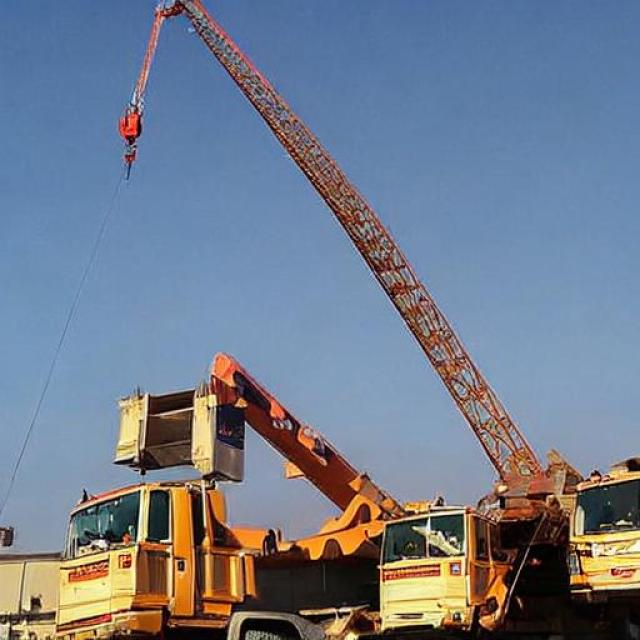crane: (562, 1, 638, 325)
truck: (369, 262, 625, 547), (117, 253, 252, 389), (229, 235, 348, 370)
